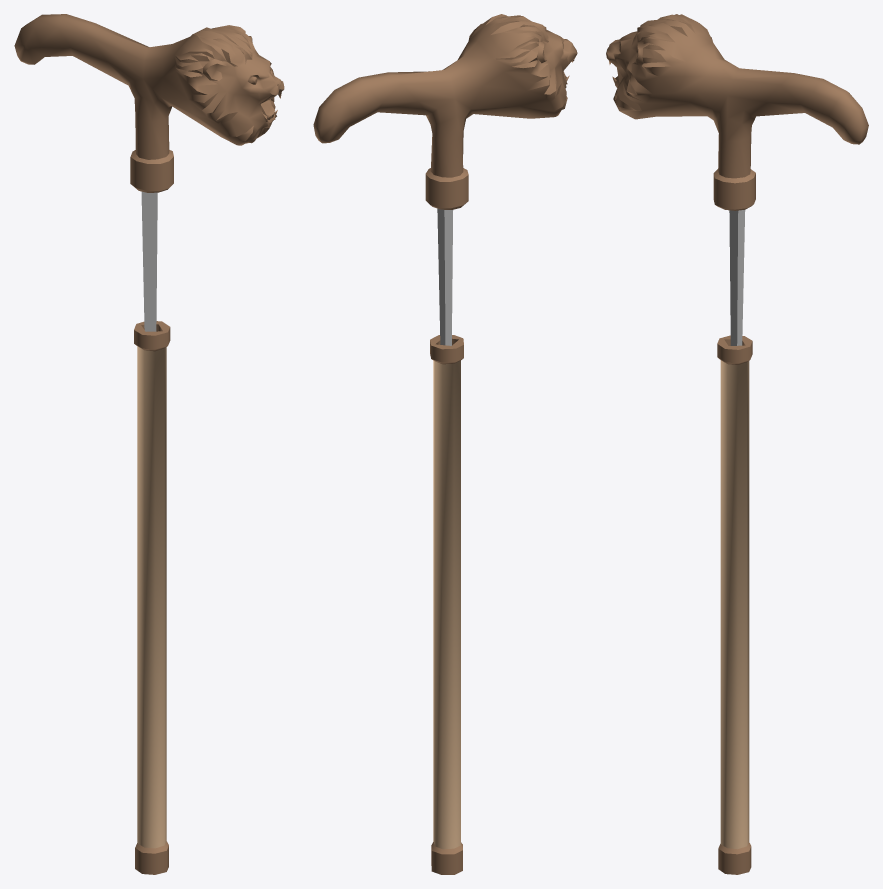
File: 13-Hidden.fbx
3 views of the same model, side by side, from view 1: azimuth 90°, elevation 25°; view 2: azimuth 150°, elevation 25°; view 3: azimuth 270°, elevation 25° (orthographic). The views are drawn at different scales.
Visible parts, largest first — view 1: 1, 2; view 2: 1, 2; view 3: 1, 2.
Boxes of the visible parts, left/top/right/bottom form: 1: left=14, top=14, right=284, bottom=331; 2: left=134, top=321, right=170, bottom=874; 1: left=313, top=14, right=577, bottom=345; 2: left=430, top=335, right=463, bottom=874; 1: left=606, top=14, right=868, bottom=345; 2: left=717, top=335, right=752, bottom=874.
Size of the model in its own units: 25.73 by 137 by 39.17.
1 material, 1 textured.
